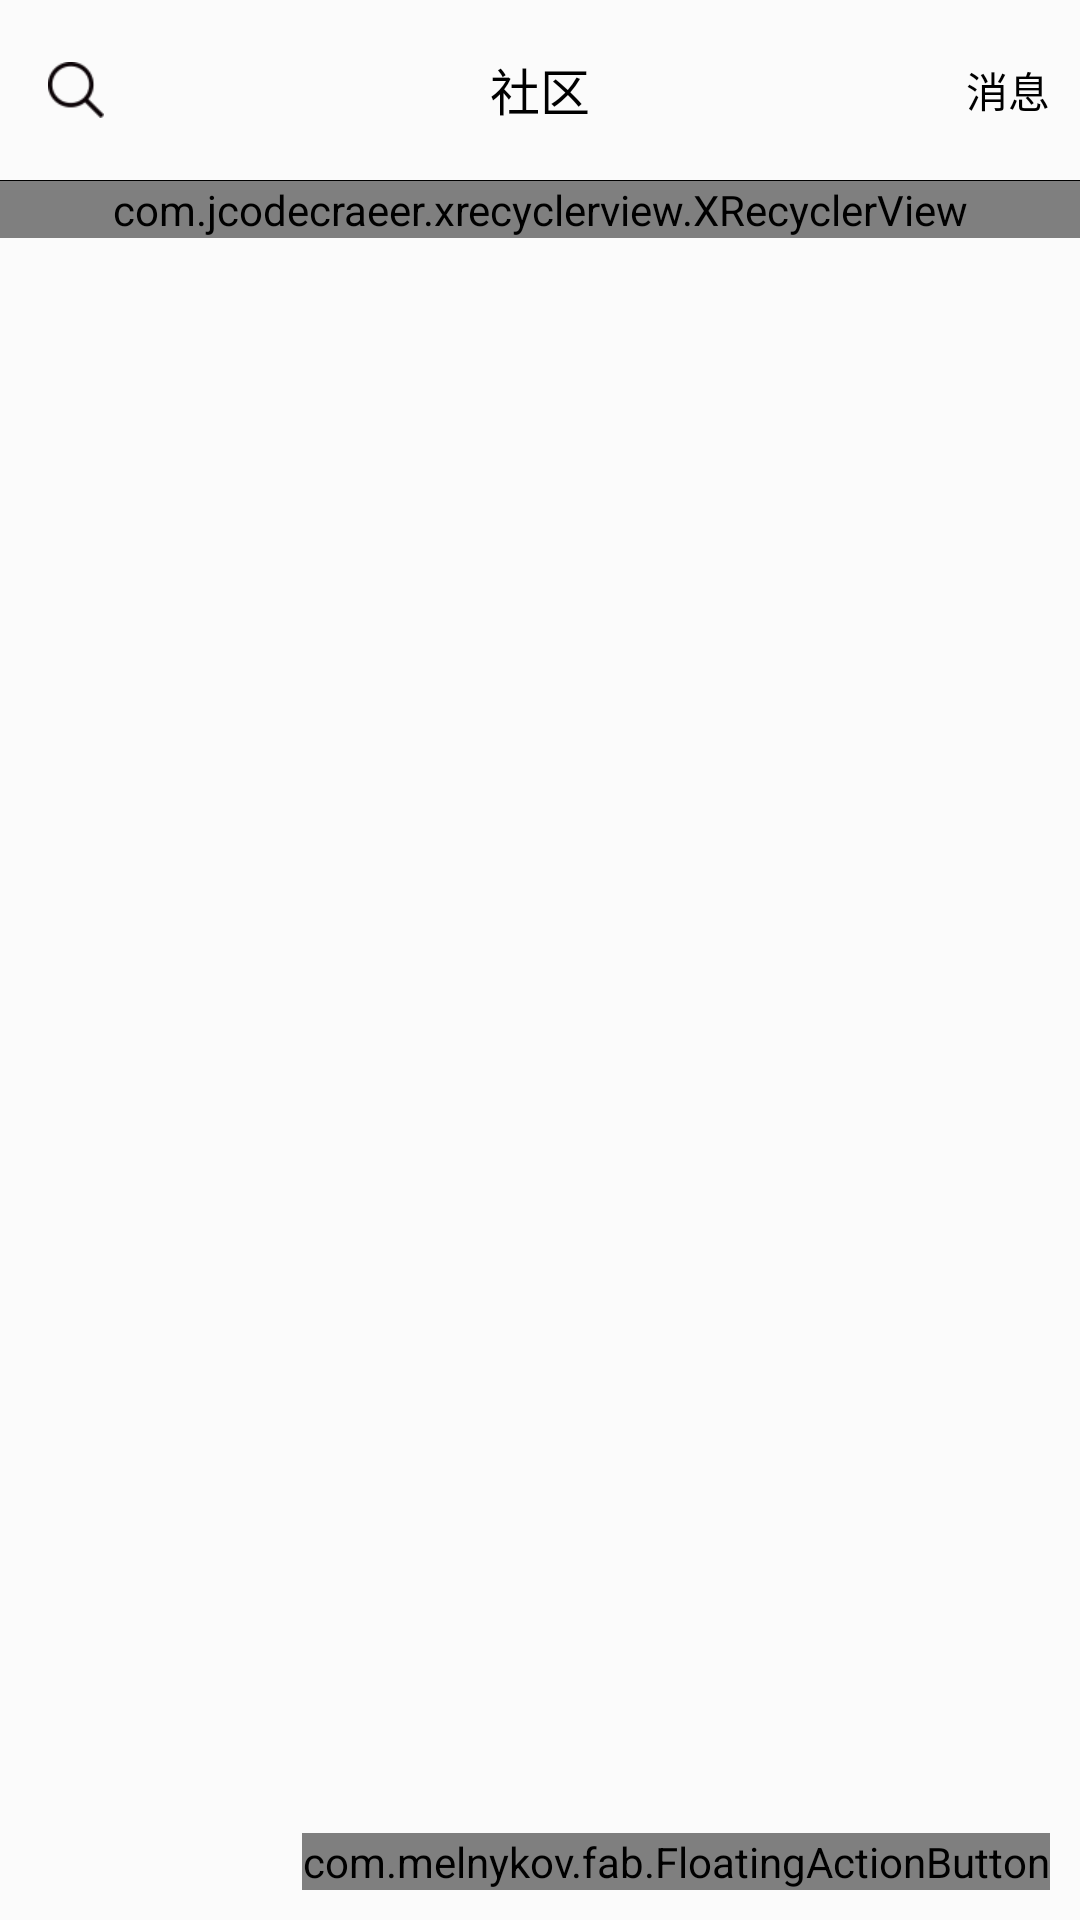

Locate icon controls on the screen. Image size 1080 × 1920, boxes as (x1, y1, x2, y2).
soushuo: (48, 62, 104, 118)
